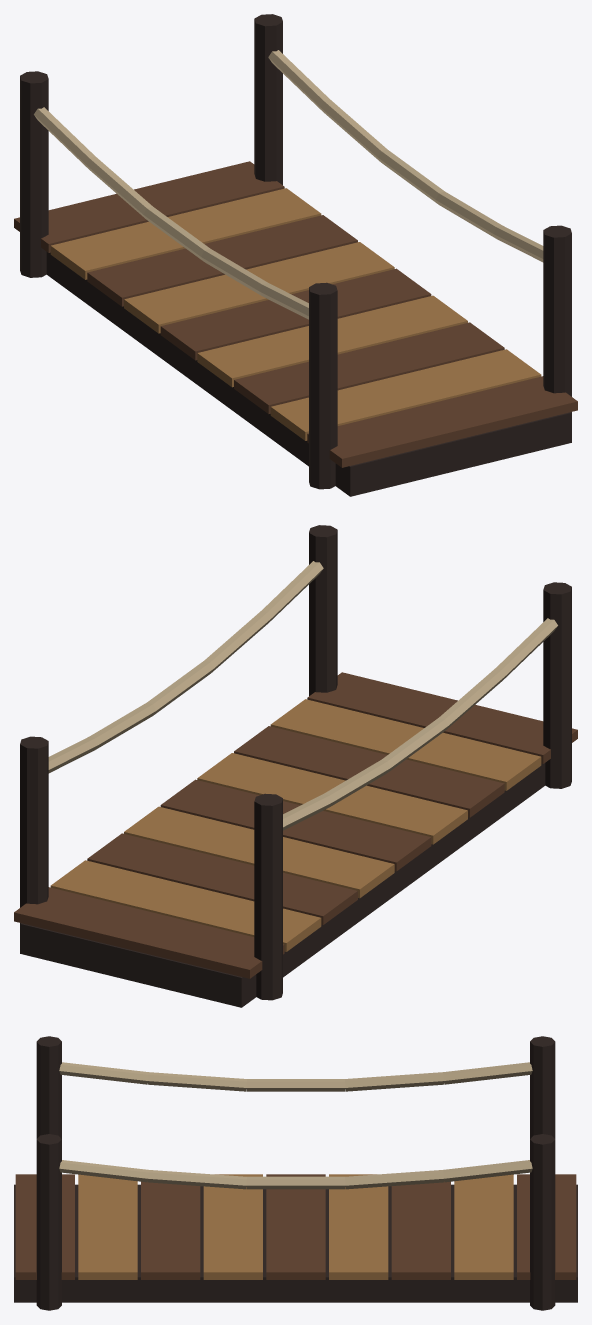
File: PirateCove_WreckPlankBridge_Standard.glb
3 renders of one model, top to bottom at view 1: azimuth 30°, elevation 25°; view 2: azimuth 150°, elevation 25°; view 3: azimuth 270°, elevation 25°, orthographic. The views are drawn at different scales.
Visible parts, largest first — view 1: PirateCove_WreckPlankBridge_Standard; view 2: PirateCove_WreckPlankBridge_Standard; view 3: PirateCove_WreckPlankBridge_Standard.
Boxes of the visible parts, x1,y1,x2,y2 form: PirateCove_WreckPlankBridge_Standard: (14, 14, 577, 496); PirateCove_WreckPlankBridge_Standard: (14, 525, 577, 1007); PirateCove_WreckPlankBridge_Standard: (14, 1036, 577, 1310).
Bounding box in the file's own units: 1.82 × 1.3 × 4.
